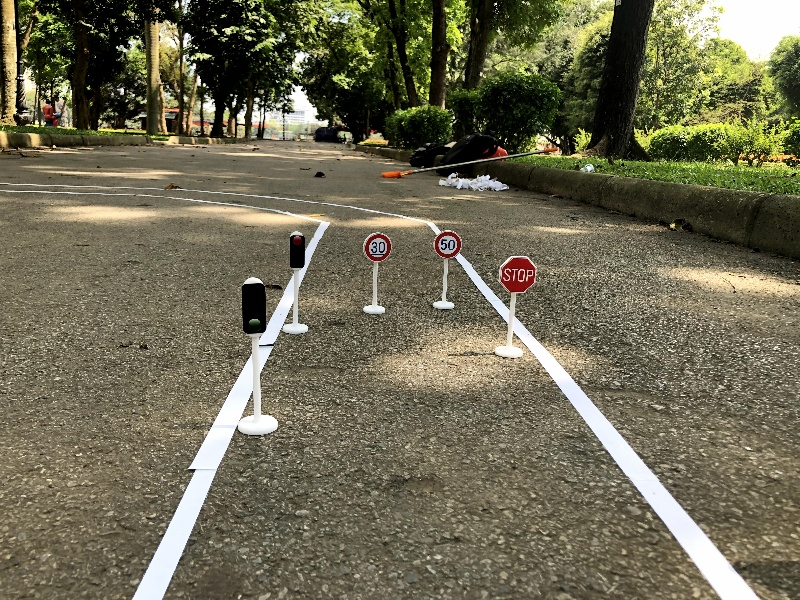Green: (237, 277, 279, 435)
Limit 30: (360, 230, 393, 316)
Limit 50: (431, 228, 462, 311)
Red: (280, 230, 310, 335)
Stop: (493, 255, 536, 359)
